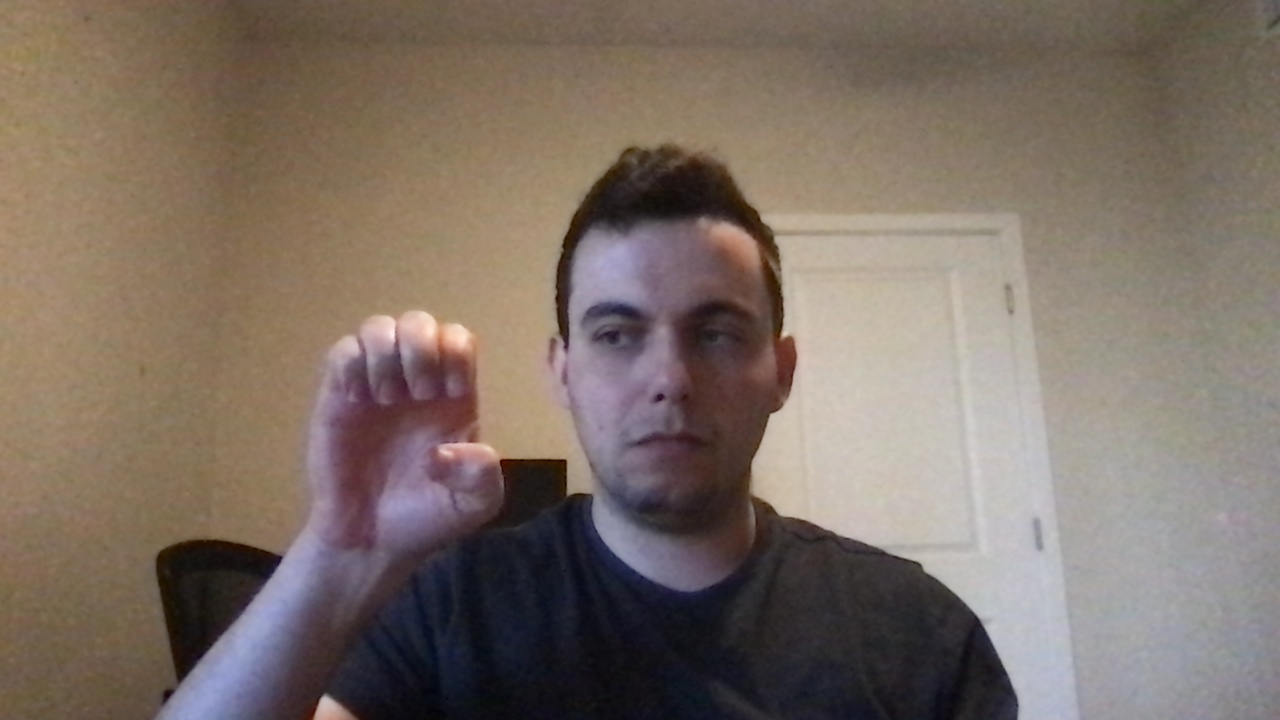e: (310, 299, 512, 566)
